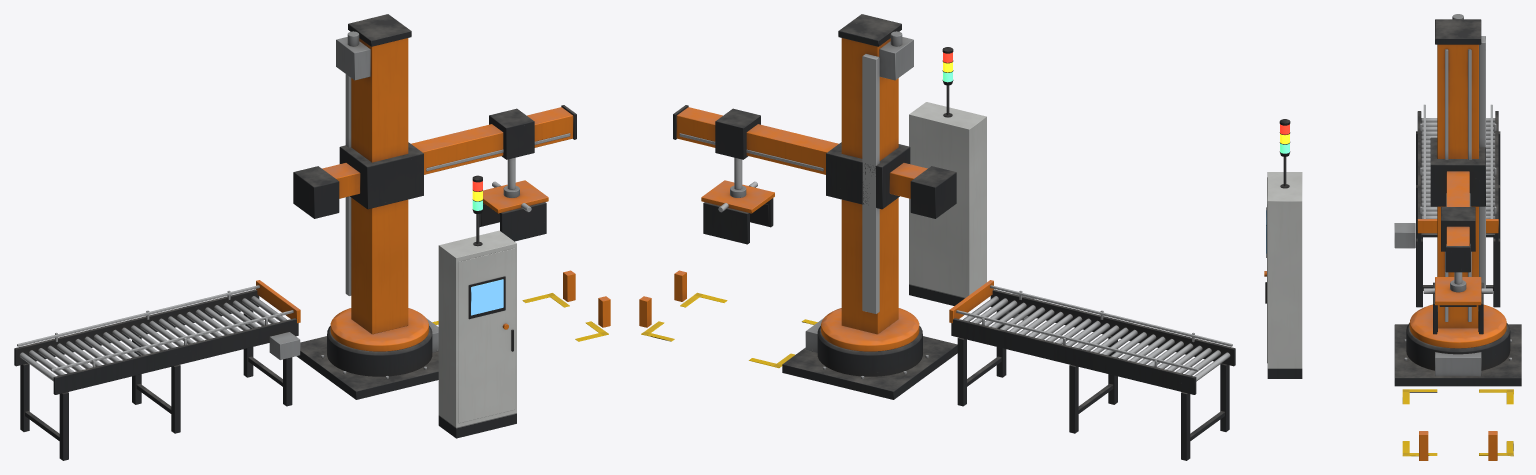
File: Palletizer.fbx
The picture shows the model from 3 angles, left to right: view 1: azimuth 30°, elevation 25°; view 2: azimuth 150°, elevation 25°; view 3: azimuth 270°, elevation 25°; orthographic projection.
Parts seen in each view (by area): view 1: Body_LOD0, Slew_LOD0, Lift_LOD0, Reach_LOD0; view 2: Body_LOD0, Slew_LOD0, Lift_LOD0, Reach_LOD0; view 3: Body_LOD0, Slew_LOD0, Lift_LOD0, Reach_LOD0.
Boxes of the visible parts, x1=… form: Body_LOD0: x1=14, y1=230, x2=610, y2=460; Slew_LOD0: x1=330, y1=14, x2=428, y2=351; Lift_LOD0: x1=293, y1=105, x2=576, y2=218; Reach_LOD0: x1=479, y1=108, x2=548, y2=241; Body_LOD0: x1=639, y1=102, x2=1235, y2=460; Slew_LOD0: x1=821, y1=14, x2=919, y2=351; Lift_LOD0: x1=673, y1=105, x2=956, y2=218; Reach_LOD0: x1=701, y1=108, x2=774, y2=244; Body_LOD0: x1=1264, y1=104, x2=1521, y2=460; Slew_LOD0: x1=1409, y1=14, x2=1506, y2=348; Lift_LOD0: x1=1430, y1=137, x2=1485, y2=272; Reach_LOD0: x1=1423, y1=207, x2=1492, y2=334.
Size of what is drawn, in the model's own units: 5.48 by 3.16 by 2.23.
1 material, 1 textured.
